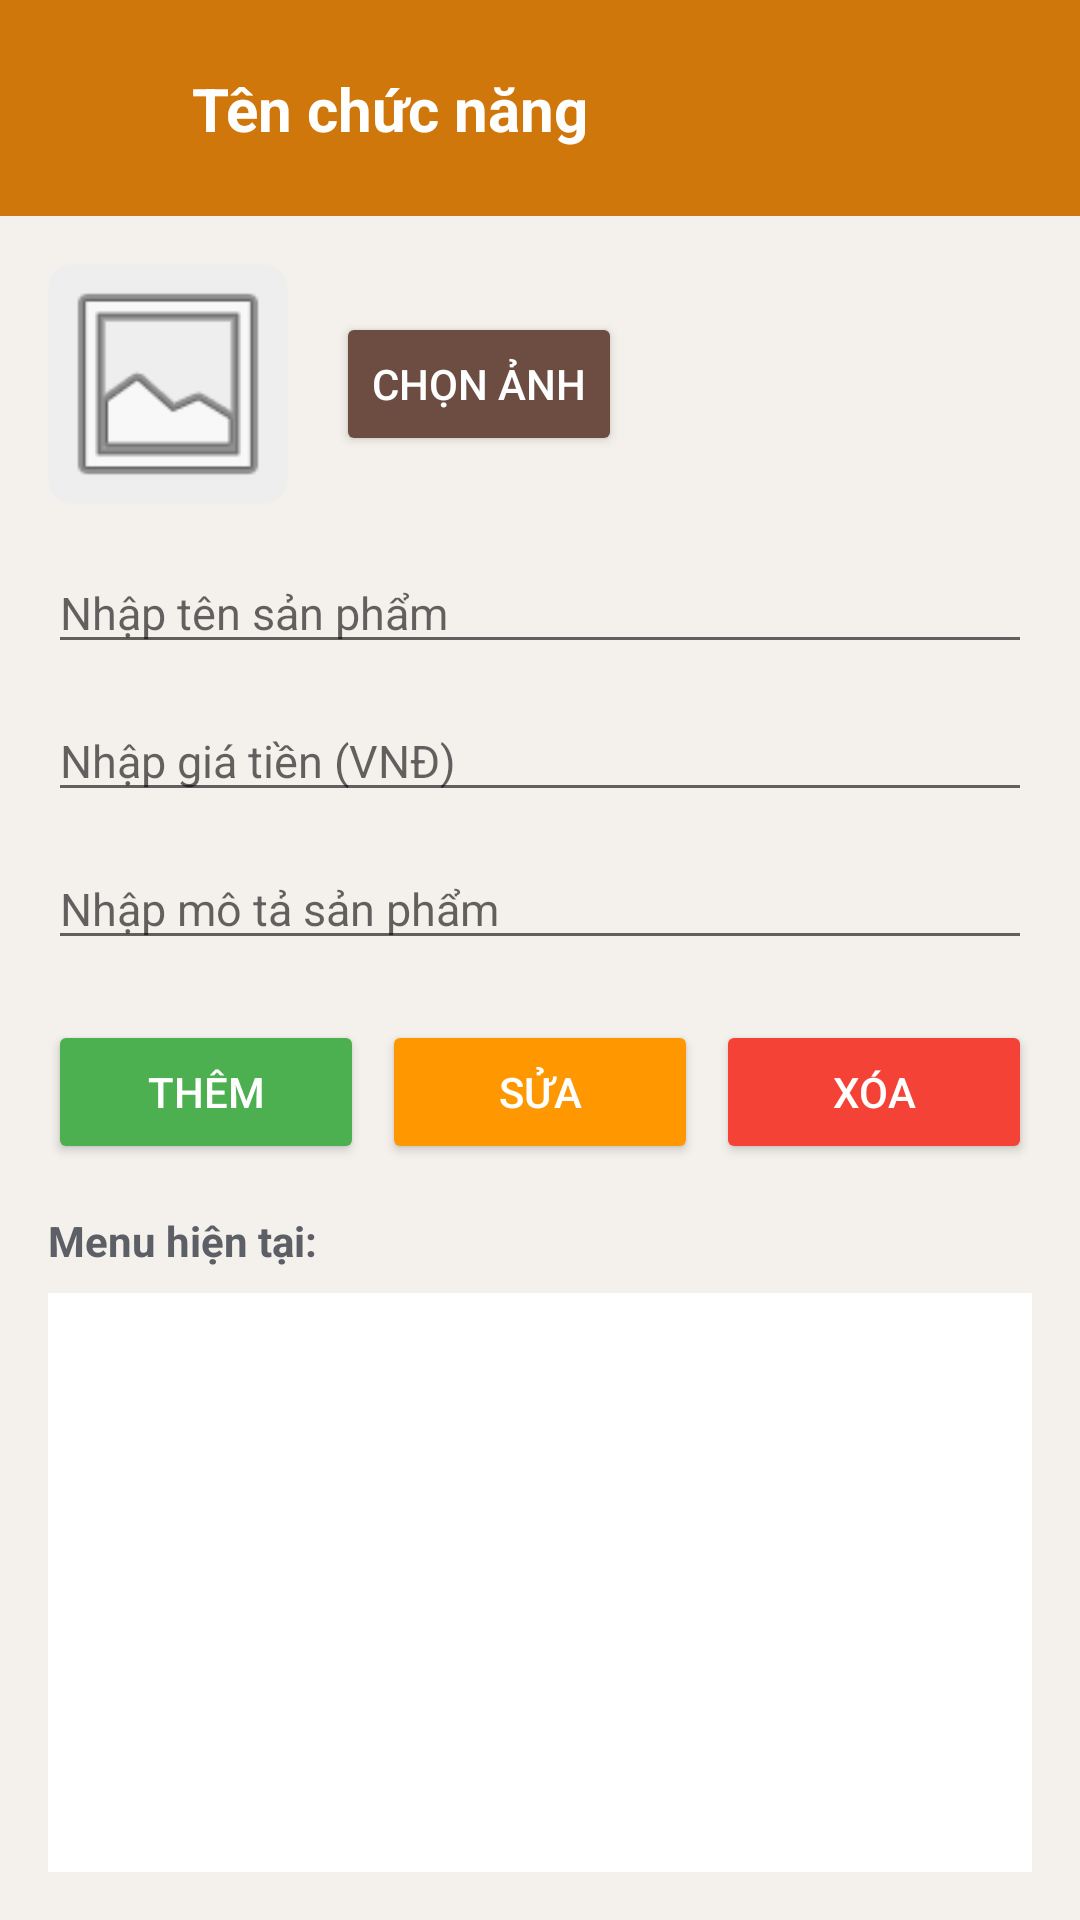

Named icons in this screenshot (1080 × 1920) and their bounding boxes, bbox(x1, y1, x2, y2):
gallery: bbox(77, 293, 259, 475)
